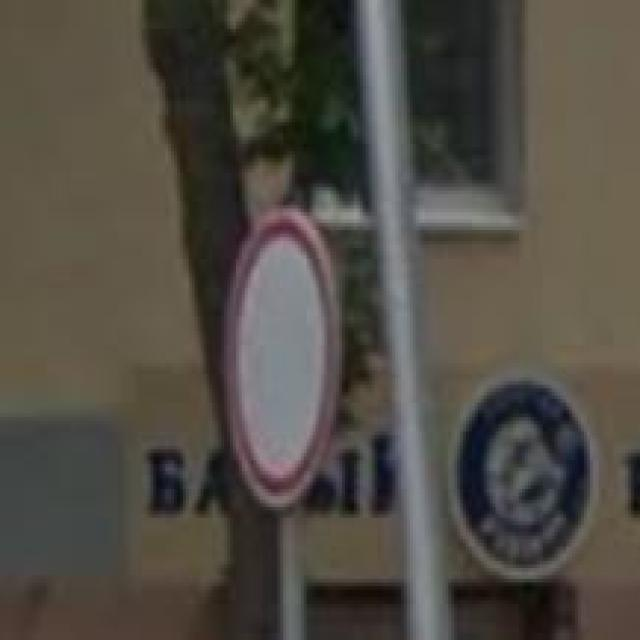no_passing: (218, 205, 342, 514)
